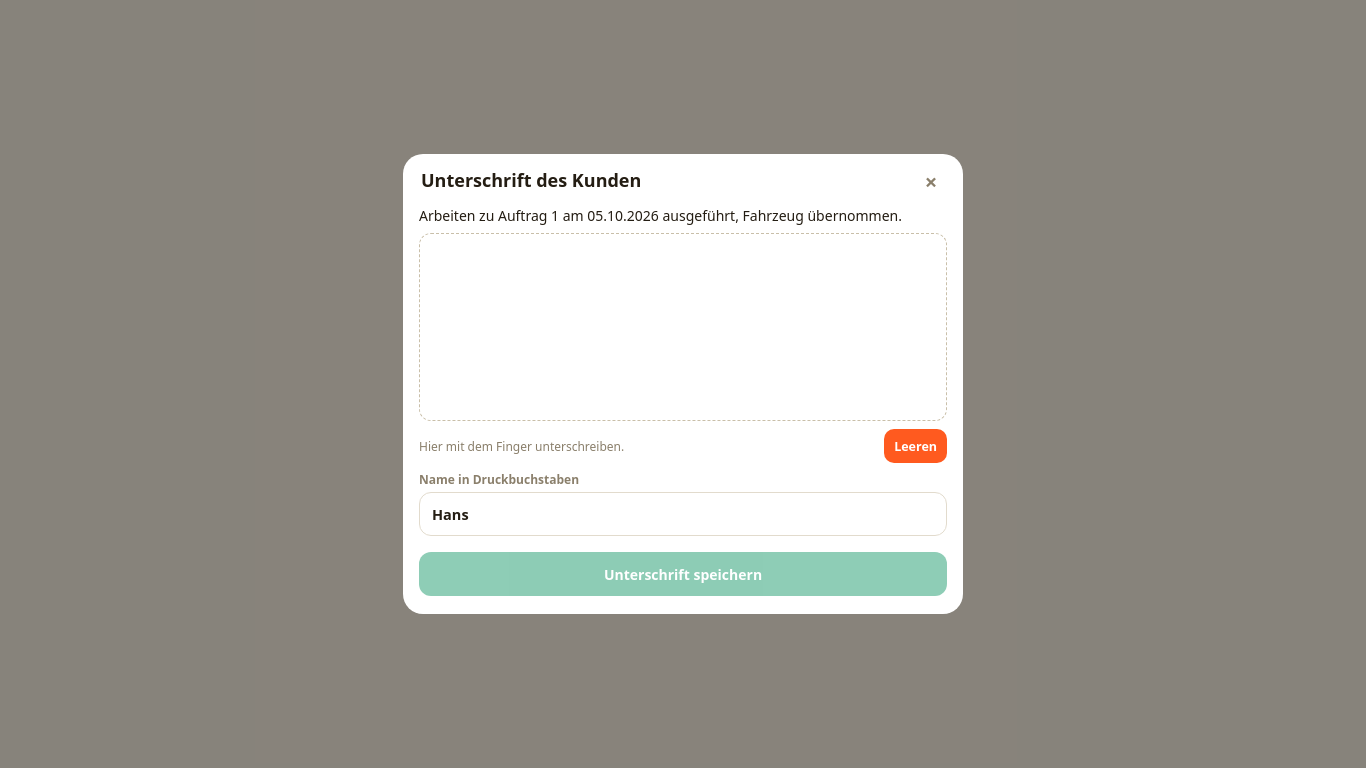
Test: UnterschriftBlatt › „Leeren“ sperrt wieder
The width and height of the screenshot is (1366, 768).
Press the mouse on the drawing named "Hier mit dem Finger unterschreiben": (683, 327) [419,233,947,421]
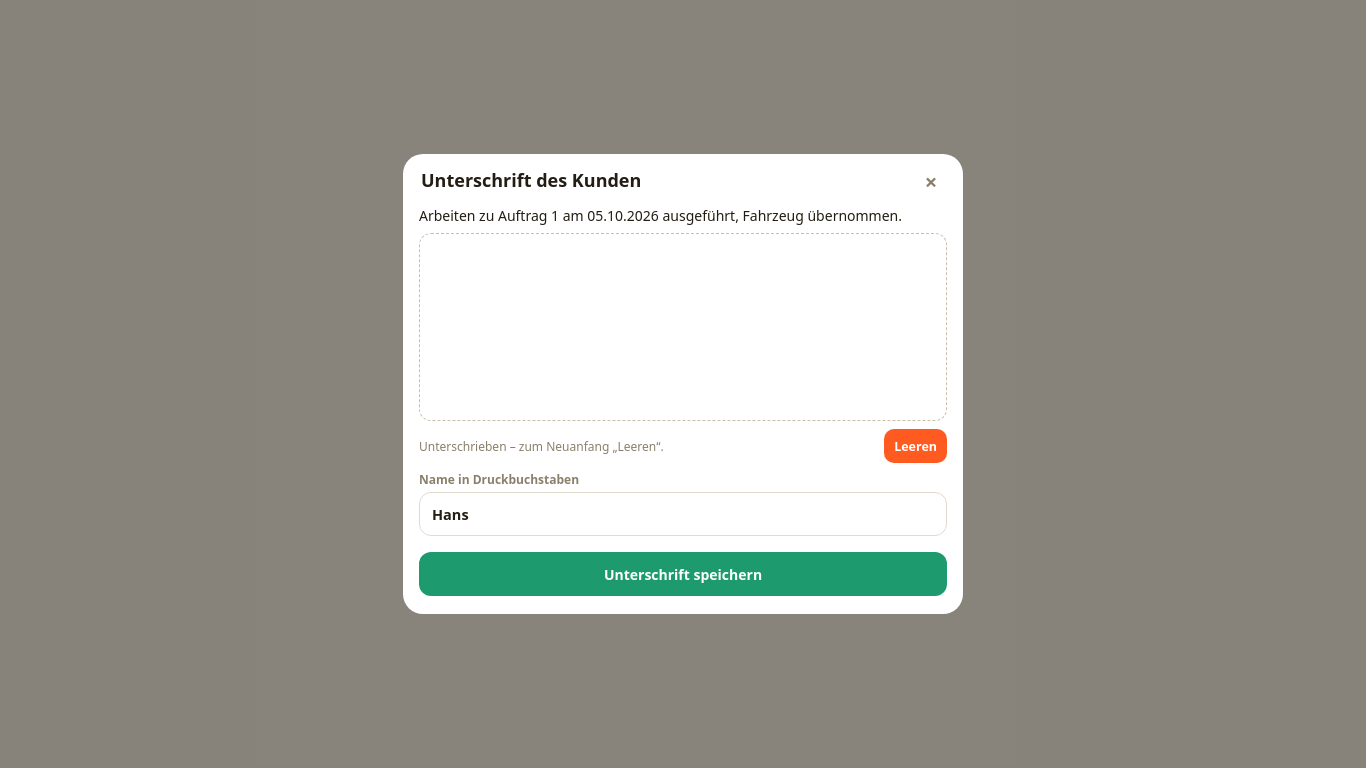
Check: the button "Unterschrift speichern" is enabled, box [419,552,947,596]
Click the button "Leeren": (916, 446) [884,429,947,463]
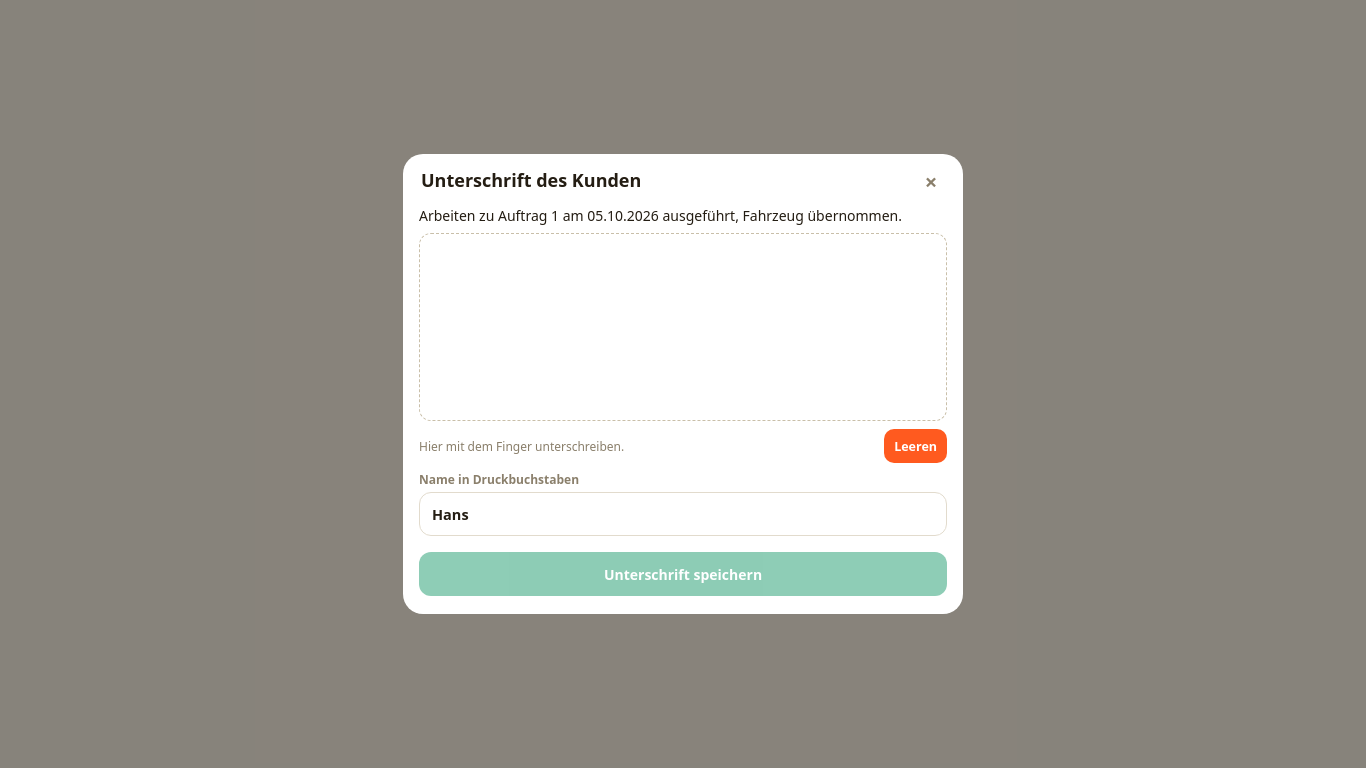
Check: the button "Unterschrift speichern" is disabled, box [419,552,947,596]
